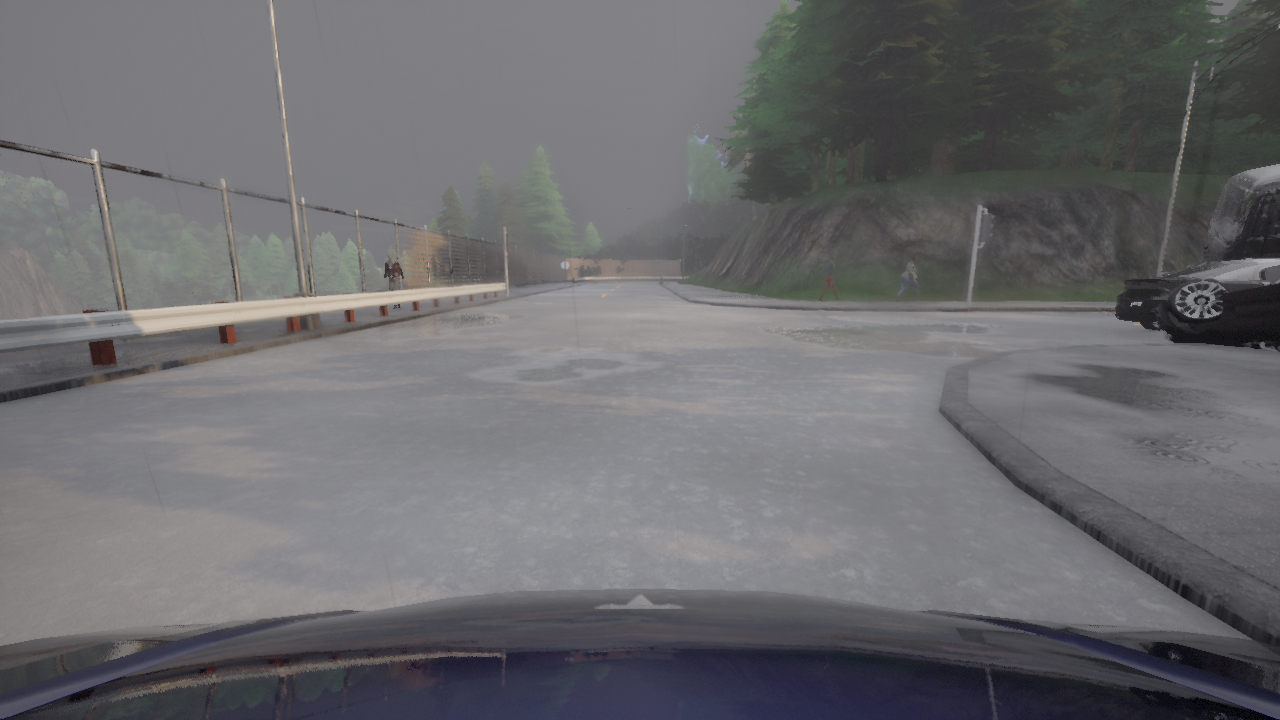cyclist: (0, 588, 1279, 719), (1116, 253, 1279, 330), (1154, 277, 1279, 352), (1202, 165, 1279, 264), (1161, 260, 1205, 275)
pedestrian: (383, 252, 405, 308), (895, 254, 921, 301), (818, 255, 842, 301)
